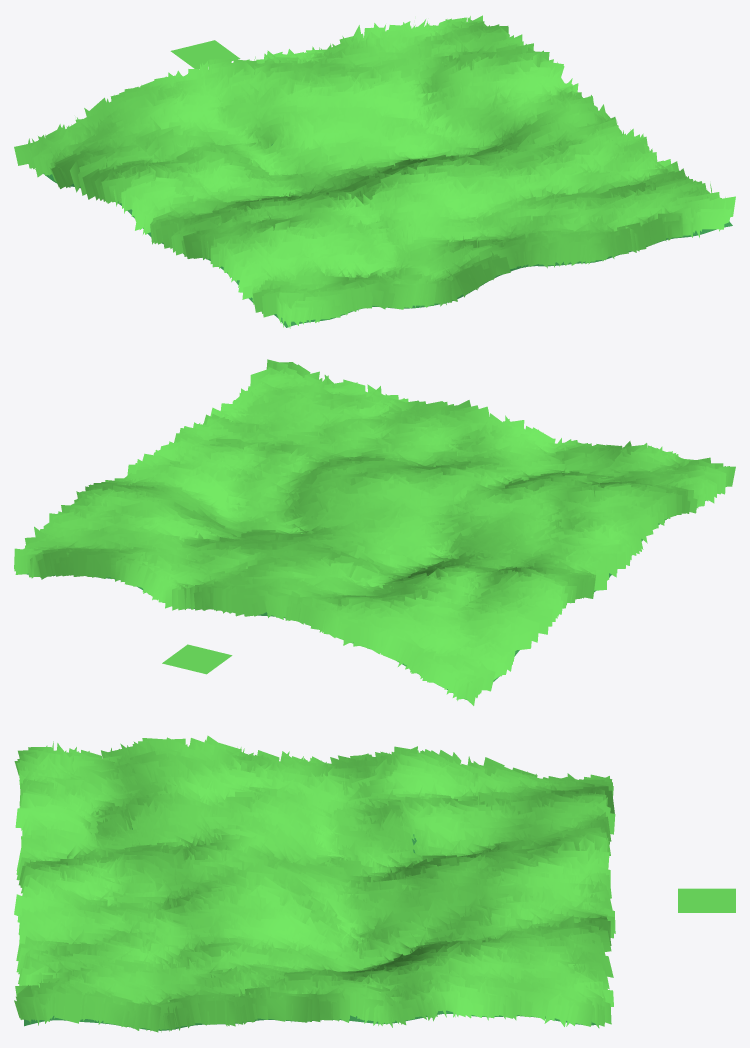
File: 草地演示文件.fbx
3 renders of one model, top to bottom at view 1: azimuth 30°, elevation 25°; view 2: azimuth 150°, elevation 25°; view 3: azimuth 270°, elevation 25°, orthographic. The views are drawn at different scales.
Visible parts, largest first — view 1: 草粒子.001, 草粒子, 地面; view 2: 草粒子.001, 草粒子; view 3: 草粒子.001, 草粒子, 地面.
Part boxes in pixels (x1,y1,x2,y2): 草粒子.001: (14, 15, 735, 328); 草粒子: (170, 40, 240, 69); 地面: (43, 143, 732, 327); 草粒子.001: (14, 359, 735, 705); 草粒子: (162, 644, 232, 674); 草粒子.001: (14, 735, 615, 1032); 草粒子: (678, 888, 735, 912); 地面: (24, 828, 599, 1030).
Size of the model in its own units: 2108 by 280 by 2493.
